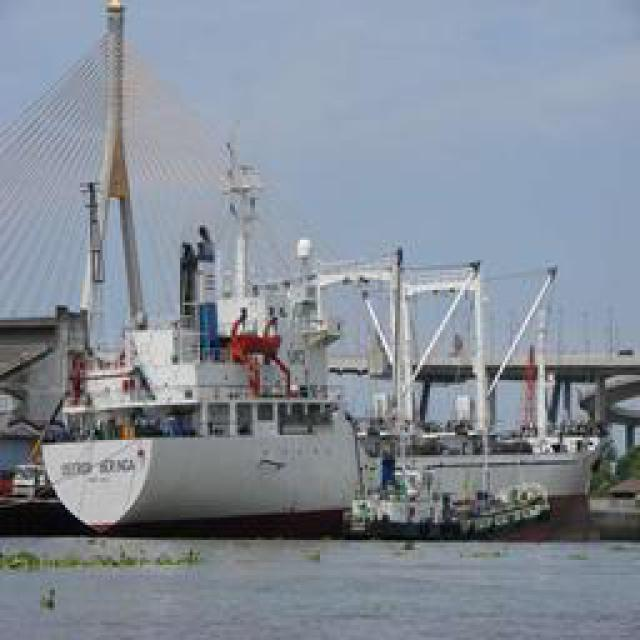Ship: (32, 41, 590, 536)
